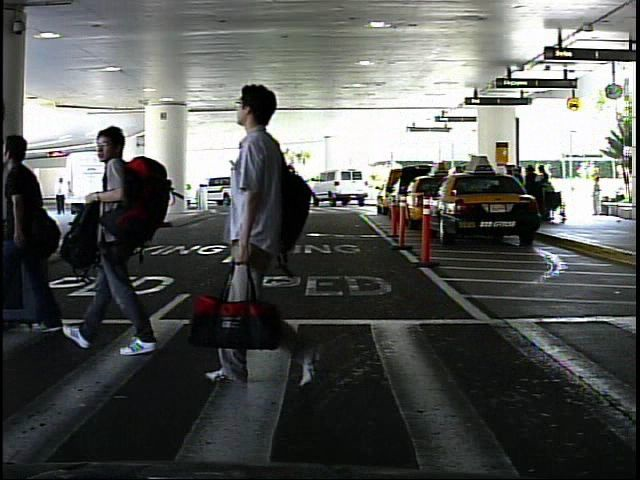person: (212, 71, 323, 392), (70, 117, 171, 359), (5, 115, 72, 355), (588, 173, 607, 219), (54, 171, 71, 216)
